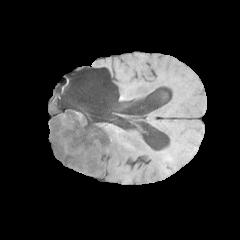glioma: (49, 86, 137, 177)
